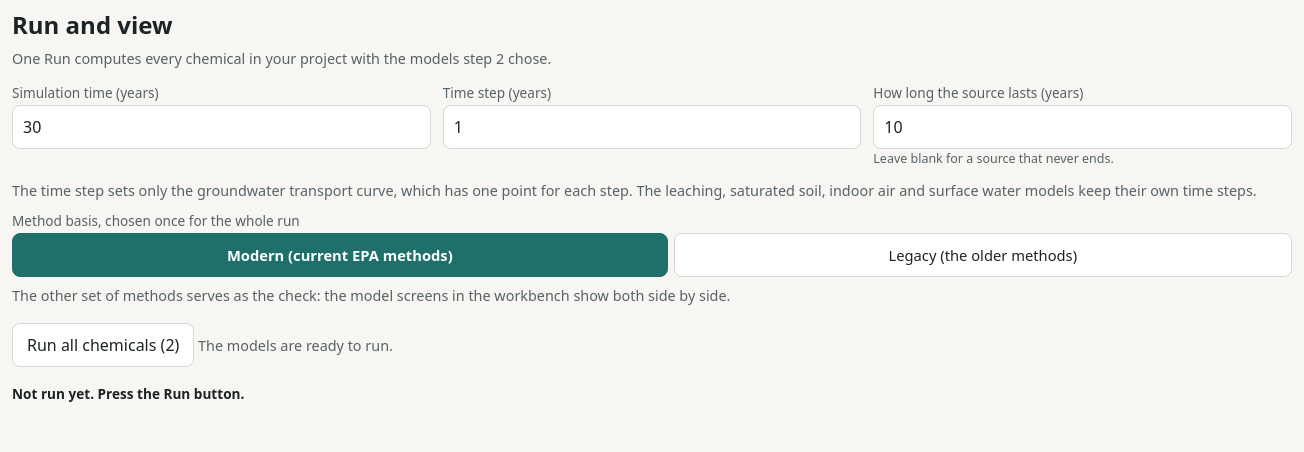
RunStep, 3d › stops the Run with a message when the simulation time cannot be used
expect the text "The models are ready to run." is shown: met, box 194,336 -> 393,355
Clear the field labelled "Simulation time (years)": x=221, y=127 12,105 -> 431,149
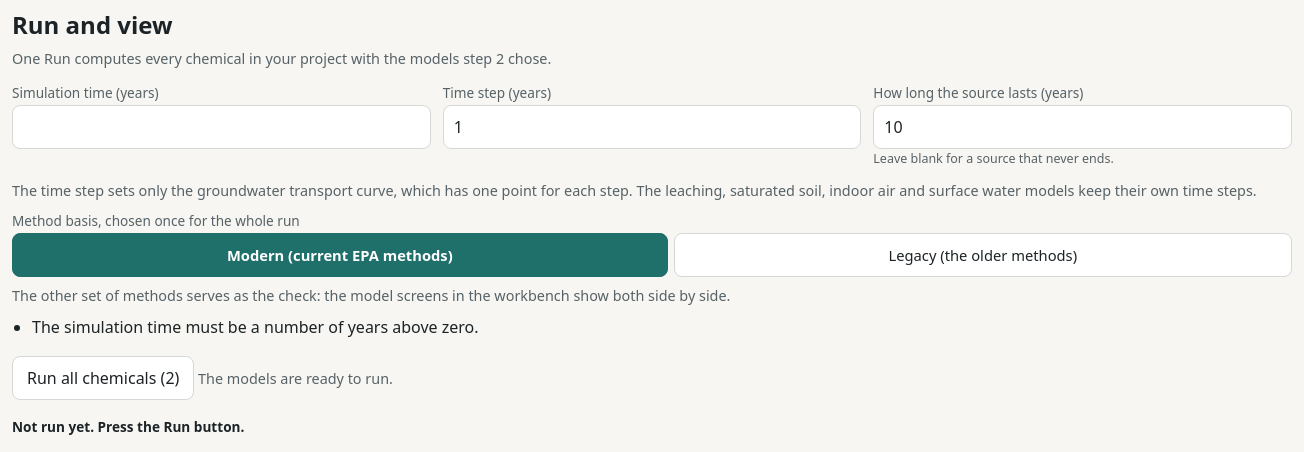
expect the message "The simulation time must be a number of years above zero." is shown: met, box 32,316 -> 479,338
expect the button "Run all chemicals (2)" is disabled: met, box 12,356 -> 194,400
In the field labelled "Simulation time (years)": x=221, y=127 12,105 -> 431,149, type "0"
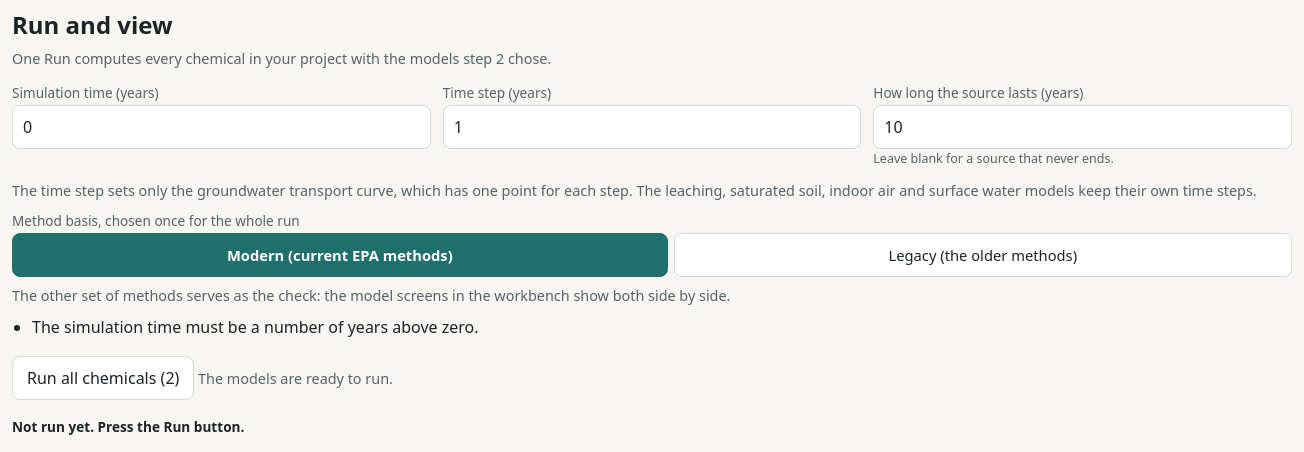
expect the message "The simulation time must be a number of years above zero." is shown: met, box 32,316 -> 479,338
expect the button "Run all chemicals (2)" is disabled: met, box 12,356 -> 194,400
Replace the text in the field labelled "Simulation time (years)" with "-3": x=221, y=127 12,105 -> 431,149
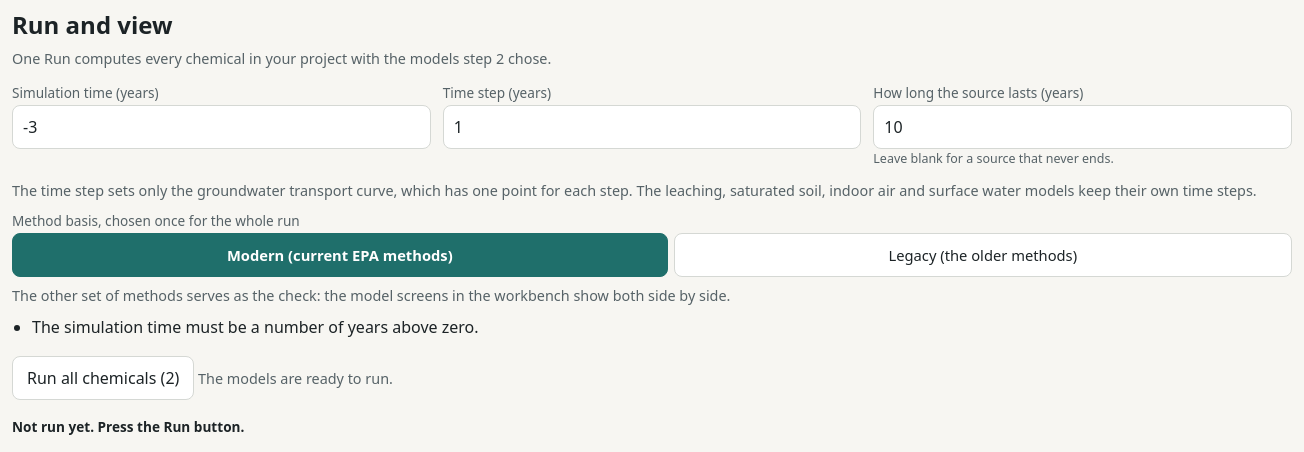
expect the message "The simulation time must be a number of years above zero." is shown: met, box 32,316 -> 479,338
expect the button "Run all chemicals (2)" is disabled: met, box 12,356 -> 194,400
Replace the text in the field labelled "Simulation time (years)" with "abc": x=221, y=127 12,105 -> 431,149
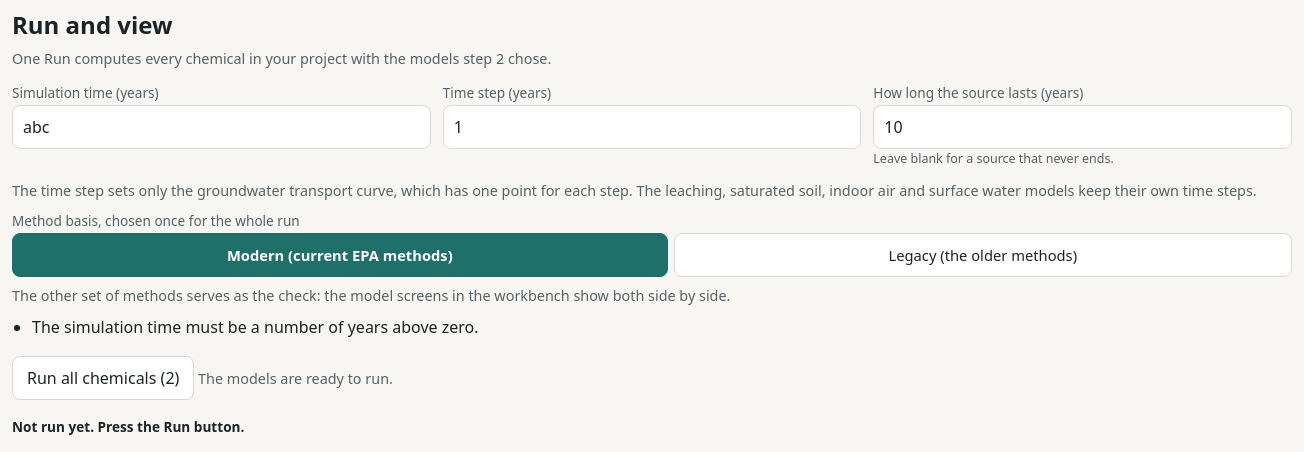
expect the message "The simulation time must be a number of years above zero." is shown: met, box 32,316 -> 479,338
expect the button "Run all chemicals (2)" is disabled: met, box 12,356 -> 194,400
Replace the text in the field labelled "Simulation time (years)" with "30": x=221, y=127 12,105 -> 431,149
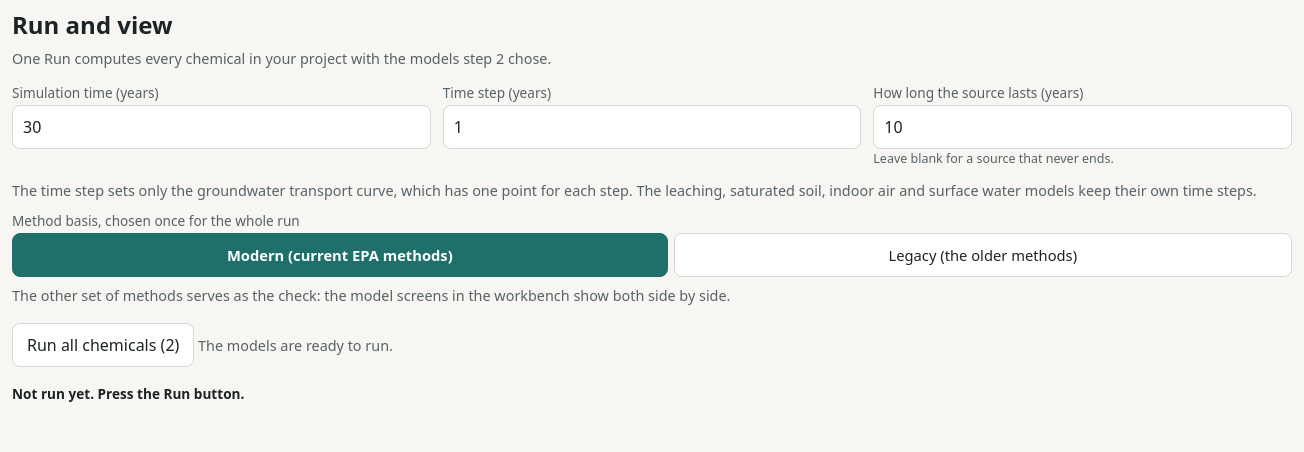
expect the list item "simulation time must be a number" is gone: met
